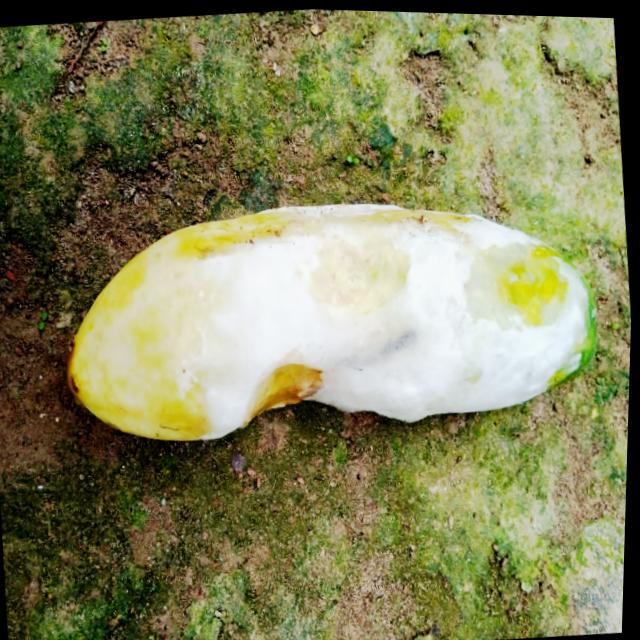Pythium-Fruit-Rot: (169, 171, 604, 449)
